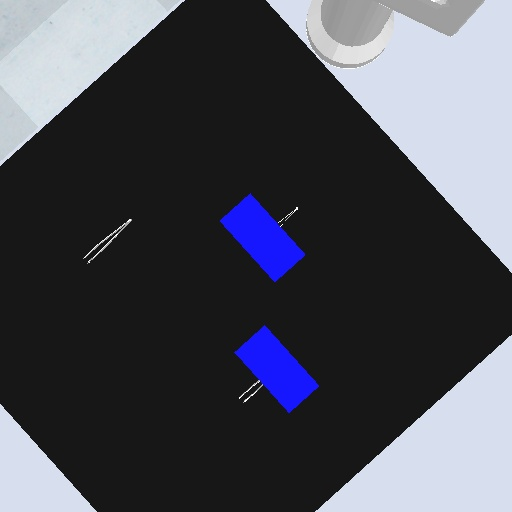pinza: (81, 217, 136, 267), (237, 378, 267, 407), (275, 204, 302, 229)
